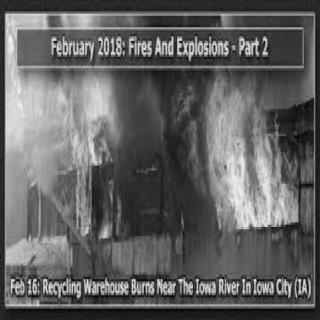Fire: (171, 66, 301, 228), (61, 73, 123, 241)
Smoke: (6, 70, 66, 240)
